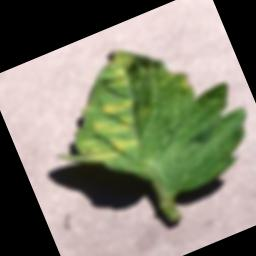Leaf_Mold: (24, 41, 169, 179), (177, 72, 193, 91)
